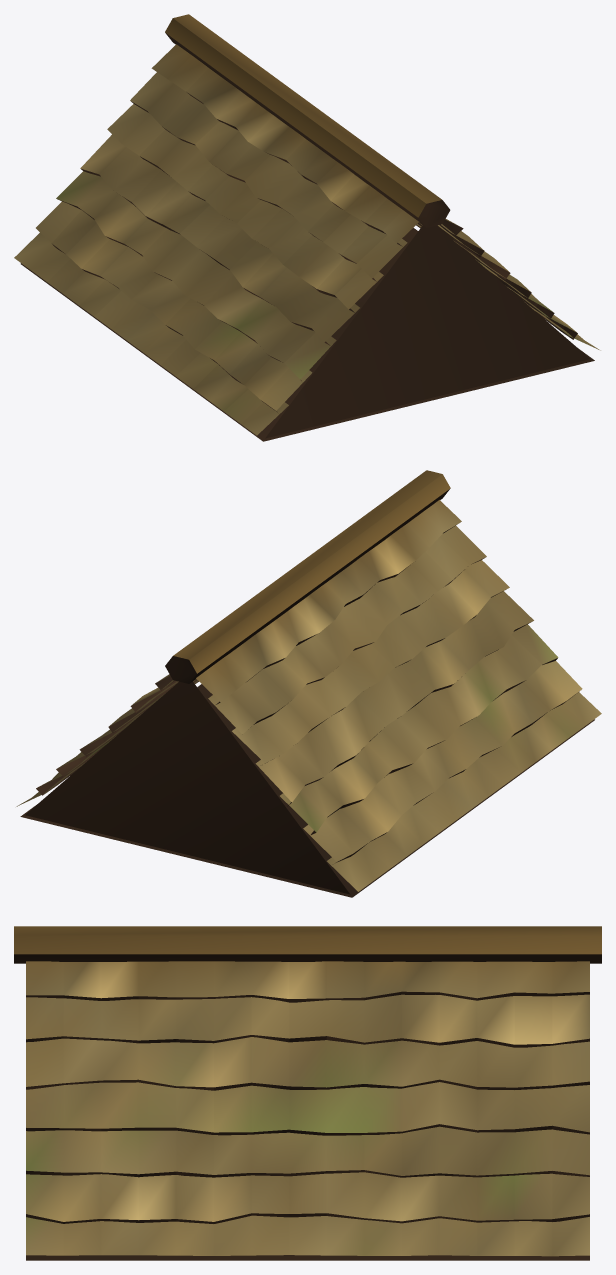
Rendered from roof_4.glb.
3 renders of one model, top to bottom at view 1: azimuth 30°, elevation 25°; view 2: azimuth 150°, elevation 25°; view 3: azimuth 270°, elevation 25°, orthographic. The views are drawn at different scales.
Visible parts, largest first — view 1: roof_4; view 2: roof_4; view 3: roof_4.
Boxes of the visible parts, box(x1,y1,x2,y2) form: roof_4: box(14, 14, 600, 441); roof_4: box(16, 470, 601, 897); roof_4: box(14, 926, 601, 1260).
Bounding box in the file's own units: 5.42 × 3.04 × 6.88.
